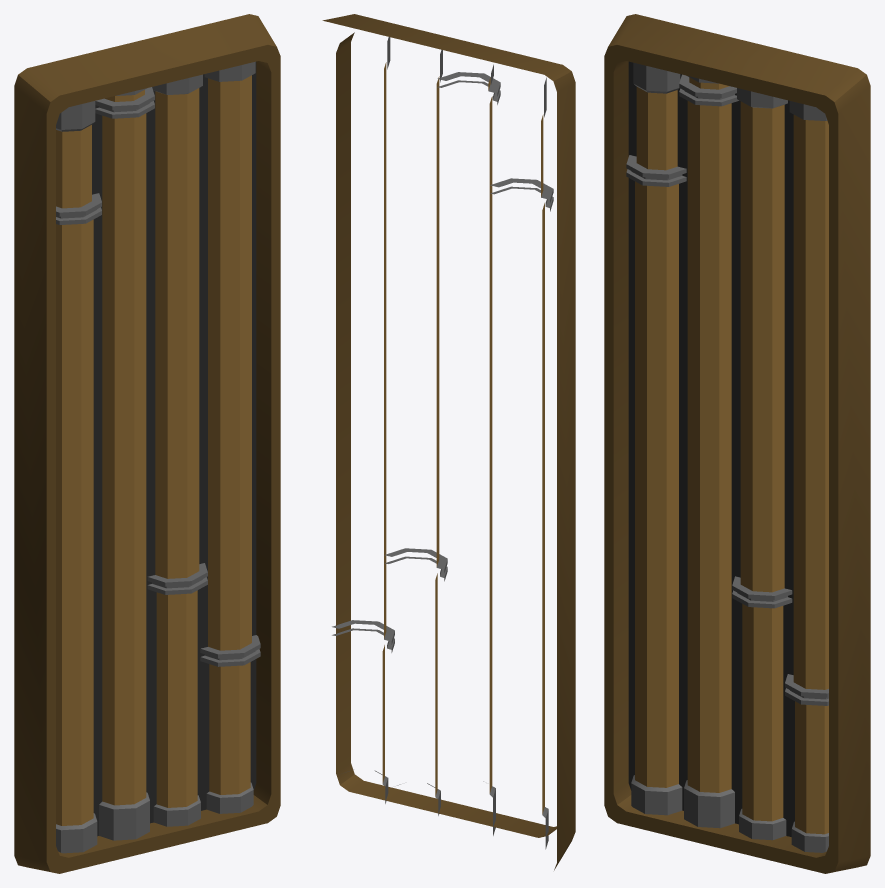
File: pipes_long.glb
The picture shows the model from 3 angles, left to right: view 1: azimuth 30°, elevation 25°; view 2: azimuth 150°, elevation 25°; view 3: azimuth 330°, elevation 25°; orthographic projection.
Visible parts, largest first — view 1: pipes_long; view 2: pipes_long; view 3: pipes_long.
Part boxes in pixels (x1,y1,x2,y2): pipes_long: (14,14,280,873); pipes_long: (322,14,575,870); pipes_long: (604,14,870,873).
Bounding box in the file's own units: 1.3 × 4 × 0.2352.
